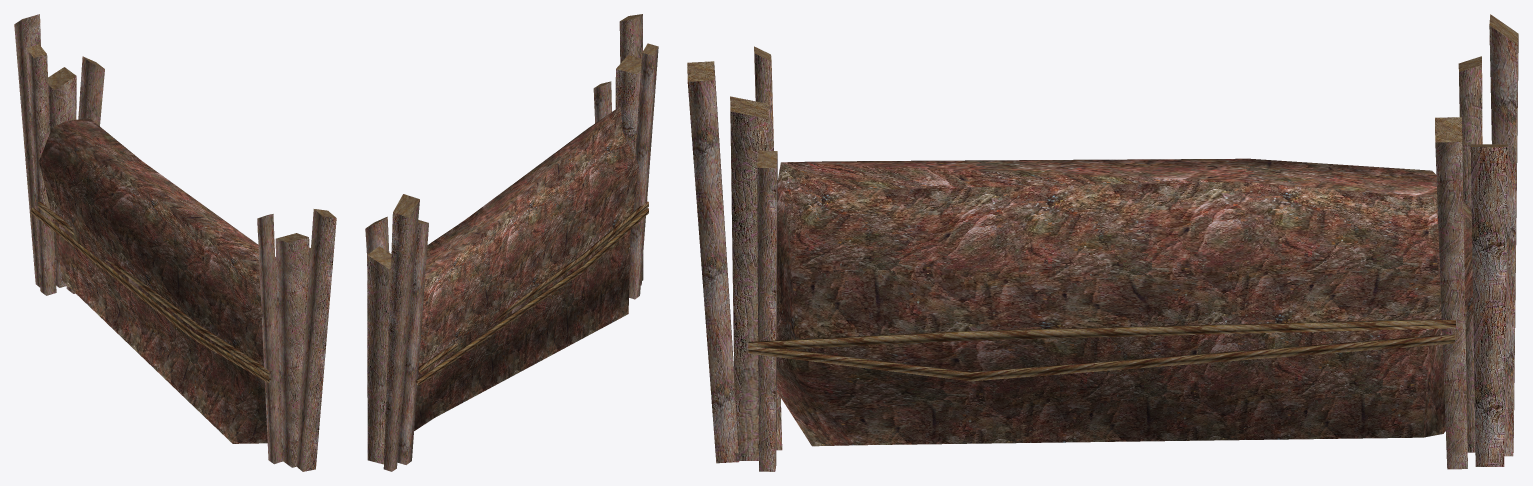
The model's file is thm_dath_night_sister_fence_s01_l3.fbx.
3 views of the same model, side by side, from view 1: azimuth 30°, elevation 25°; view 2: azimuth 150°, elevation 25°; view 3: azimuth 270°, elevation 25° (orthographic). The views are drawn at different scales.
Visible parts, largest first — view 1: mesh_node; view 2: mesh_node; view 3: mesh_node.
Boxes of the visible parts, x1,y1,x2,y2 form: mesh_node: [14, 14, 336, 471]; mesh_node: [365, 14, 658, 471]; mesh_node: [687, 14, 1518, 471].
Bounding box in the file's own units: 1.23 × 4.88 × 8.7.
